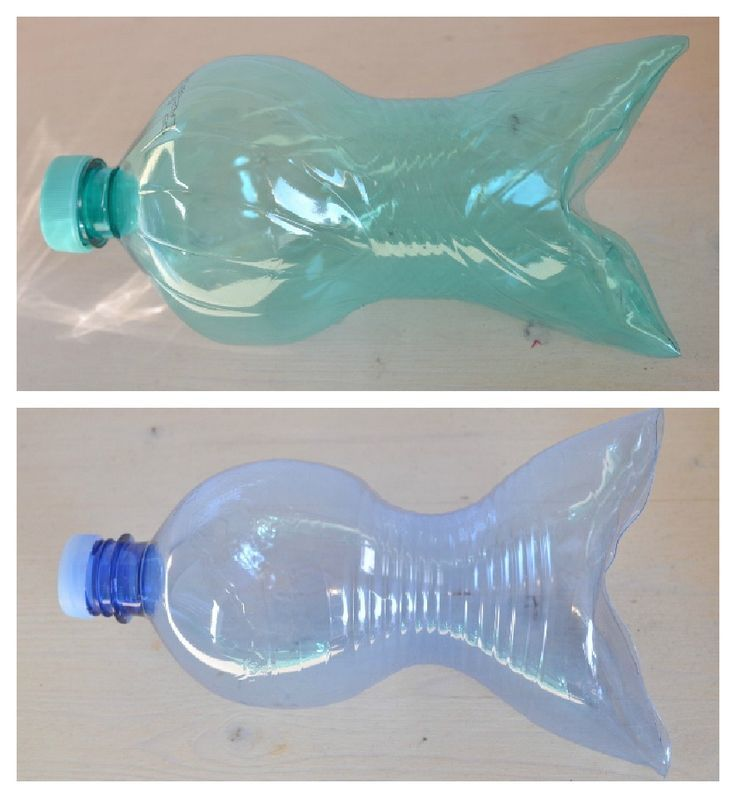plastic_bottle: (42, 409, 679, 782), (31, 35, 690, 361)
